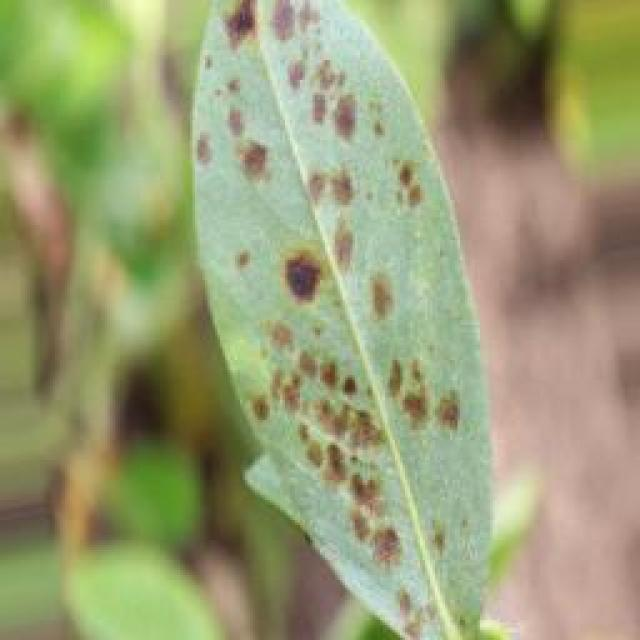Whitefly: (120, 0, 485, 627)
